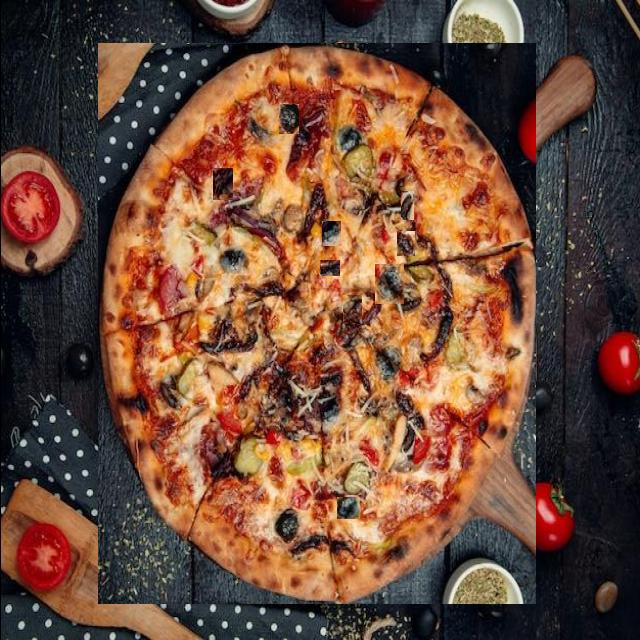olive: (374, 264, 403, 304), (68, 339, 93, 382), (217, 372, 245, 402), (212, 168, 232, 200), (160, 234, 183, 261), (278, 104, 298, 134), (342, 295, 361, 324), (336, 497, 359, 519), (321, 221, 340, 246), (396, 231, 414, 256), (400, 191, 413, 220), (319, 260, 339, 276), (415, 220, 423, 230)
pizza: (97, 43, 535, 604)
